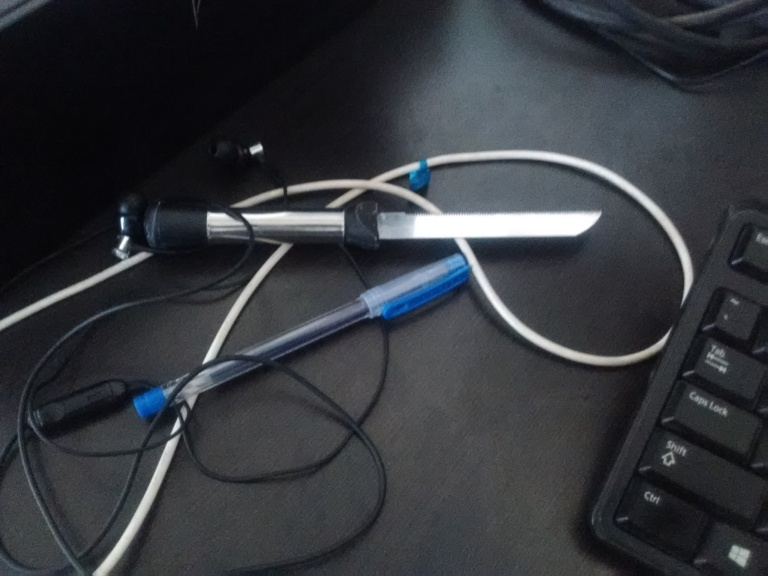knife: (137, 198, 603, 250)
